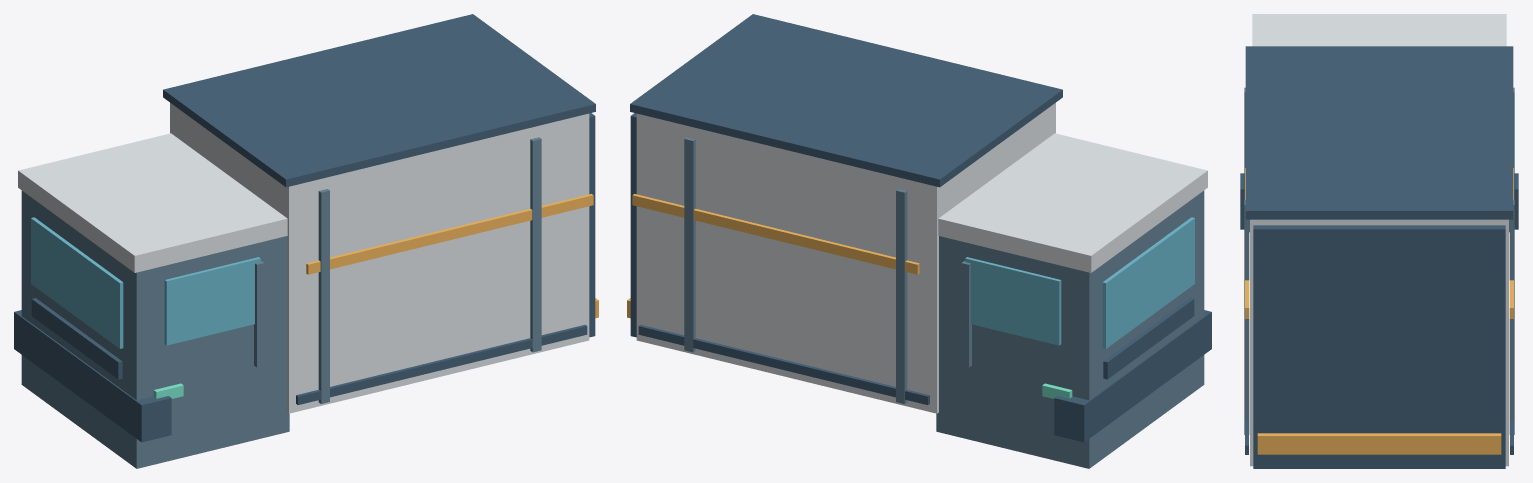
The model's file is flotra_delivery_truck_demo.glb.
3 renders of one model, left to right at view 1: azimuth 30°, elevation 25°; view 2: azimuth 150°, elevation 25°; view 3: azimuth 270°, elevation 25°, orthographic. The views are drawn at different scales.
Parts seen in each view (by area): view 1: Truck_aluminum, Truck_navy, Truck_steel, Truck_glass, Truck_orange; view 2: Truck_aluminum, Truck_navy, Truck_steel, Truck_glass, Truck_orange; view 3: Truck_navy, Truck_aluminum, Truck_orange, Truck_steel.
Part boxes in pixels (bbox=[...]): Truck_aluminum: bbox=[18, 103, 589, 413]; Truck_navy: bbox=[14, 14, 595, 442]; Truck_steel: bbox=[21, 137, 541, 468]; Truck_glass: bbox=[31, 217, 260, 348]; Truck_orange: bbox=[306, 194, 598, 318]; Truck_aluminum: bbox=[636, 103, 1207, 413]; Truck_navy: bbox=[630, 14, 1211, 442]; Truck_steel: bbox=[684, 137, 1204, 468]; Truck_glass: bbox=[965, 217, 1194, 348]; Truck_orange: bbox=[627, 194, 919, 318]; Truck_navy: bbox=[1240, 46, 1518, 468]; Truck_aluminum: bbox=[1250, 14, 1508, 466]; Truck_orange: bbox=[1245, 168, 1513, 454]; Truck_steel: bbox=[1244, 87, 1514, 434].
Bounding box in the file's own units: 3.43 × 1.8 × 1.62.
